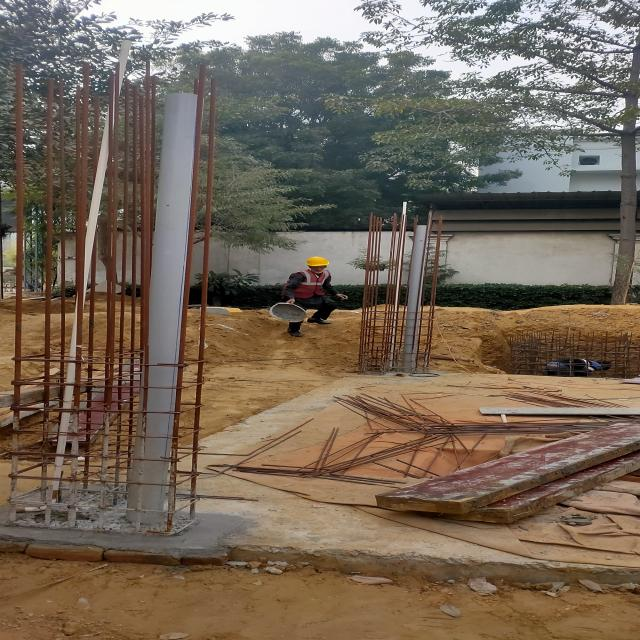safe: (280, 257, 334, 335)
